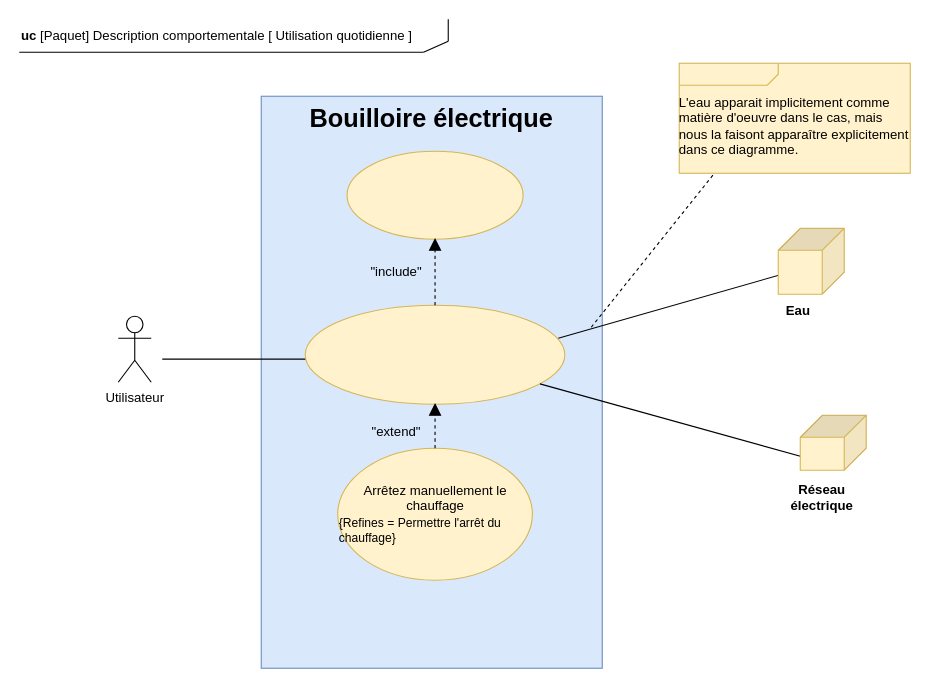
Image size: 930x688. Some labels were removed from this diagram. The centre of each missing label's shape, as x and y in pixels:
"Arrêtez automatiquement le chauffage" belongs at pixel 434 194.
"Bouillir de l'eau de manière automatique" belongs at pixel 434 354.
